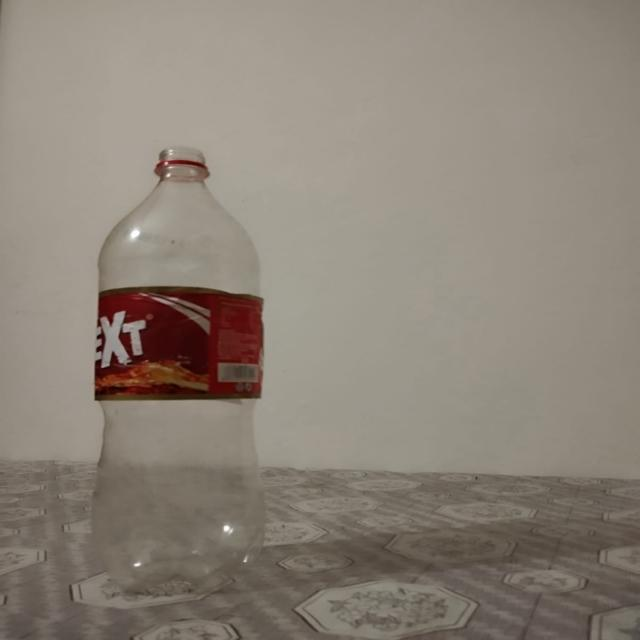bottle: (88, 146, 266, 596)
label: (94, 286, 267, 402)
